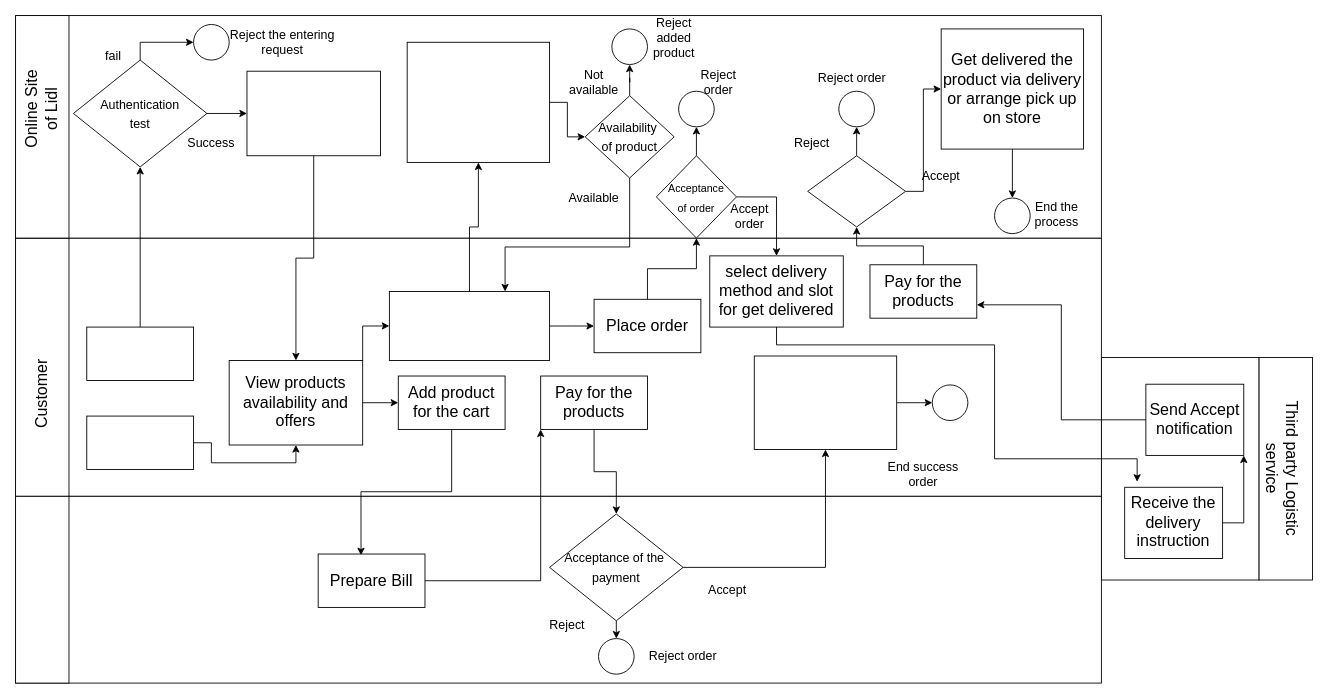
This 1329x699 diagram has some shape labels left out. The shapes that lost their labels are listed below. From the top down, each one's box as (x1, y1, x2, y2) in pixels, then its label:
(246, 70, 380, 156): Provide interface for see details
(406, 41, 550, 162): Check the availabiity of products through inventory management system
(807, 155, 906, 227): Payment acceptance
(388, 291, 550, 360): Add or remove product from virtual cart
(86, 326, 194, 380): Enter to the website
(753, 355, 897, 449): Collect the product from the store
(86, 415, 194, 469): Visit for the store
(15, 495, 69, 683): Physical Store
